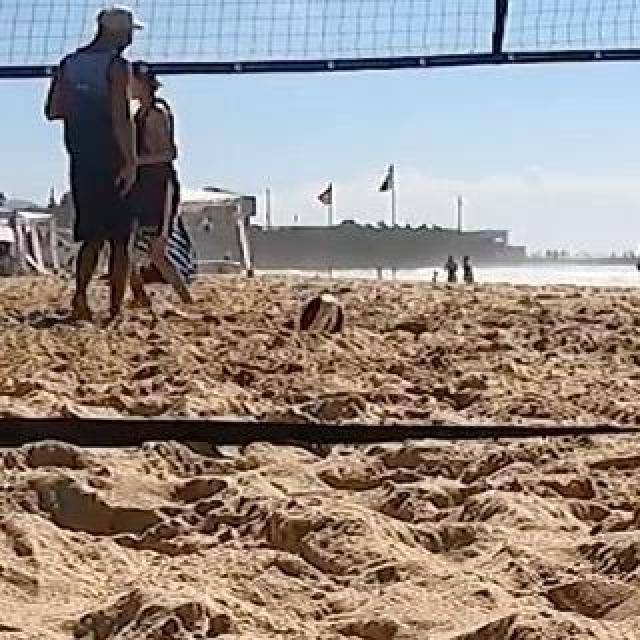volleyball: (300, 293, 344, 337)
